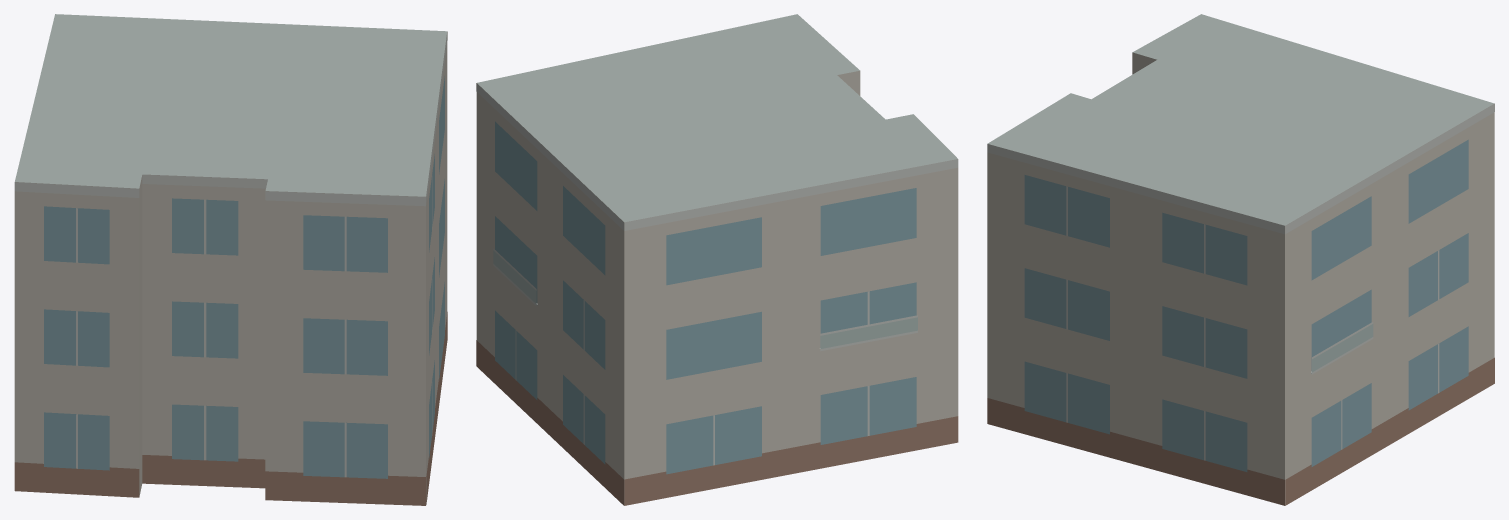
Rendered from survey-upis-32691631.glb.
3 renders of one model, left to right at view 1: azimuth 30°, elevation 25°; view 2: azimuth 150°, elevation 25°; view 3: azimuth 270°, elevation 25°, orthographic. The views are drawn at different scales.
Parts seen in each view (by area): view 1: survey-upis-32691631.tmp; view 2: survey-upis-32691631.tmp; view 3: survey-upis-32691631.tmp.
Part boxes in pixels (left/top/right/bottom): survey-upis-32691631.tmp: left=14, top=14, right=447, bottom=505; survey-upis-32691631.tmp: left=476, top=14, right=958, bottom=505; survey-upis-32691631.tmp: left=987, top=14, right=1494, bottom=505.
Bounding box in the file's own units: 12.9 × 7.95 × 13.06.
